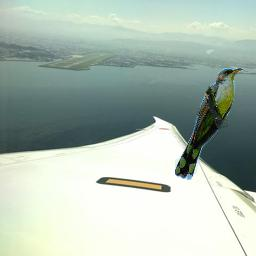Cuckoo: (175, 68, 243, 180)
